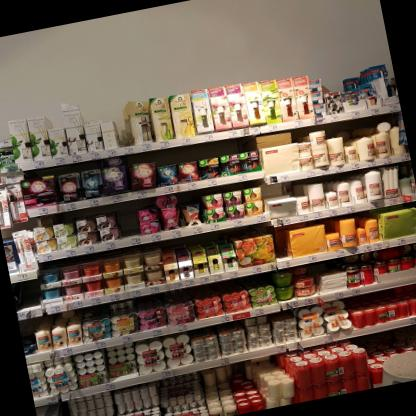empty_space: (109, 196, 142, 239), (110, 103, 134, 147), (15, 279, 42, 313), (272, 223, 293, 261)
